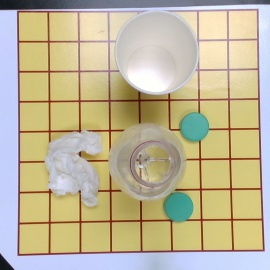bottle: (110, 124, 187, 201)
cup: (115, 11, 199, 97)
green: (178, 111, 209, 141), (164, 193, 193, 222)
